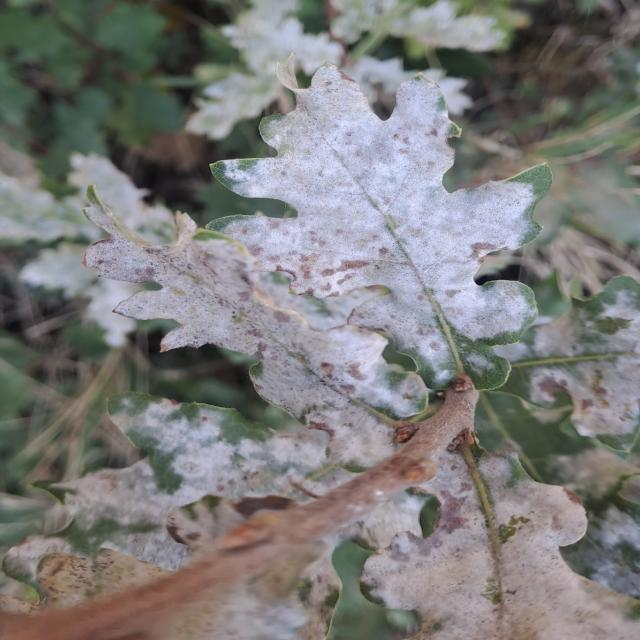powdery_mildew: (210, 63, 551, 389), (86, 189, 427, 465)
